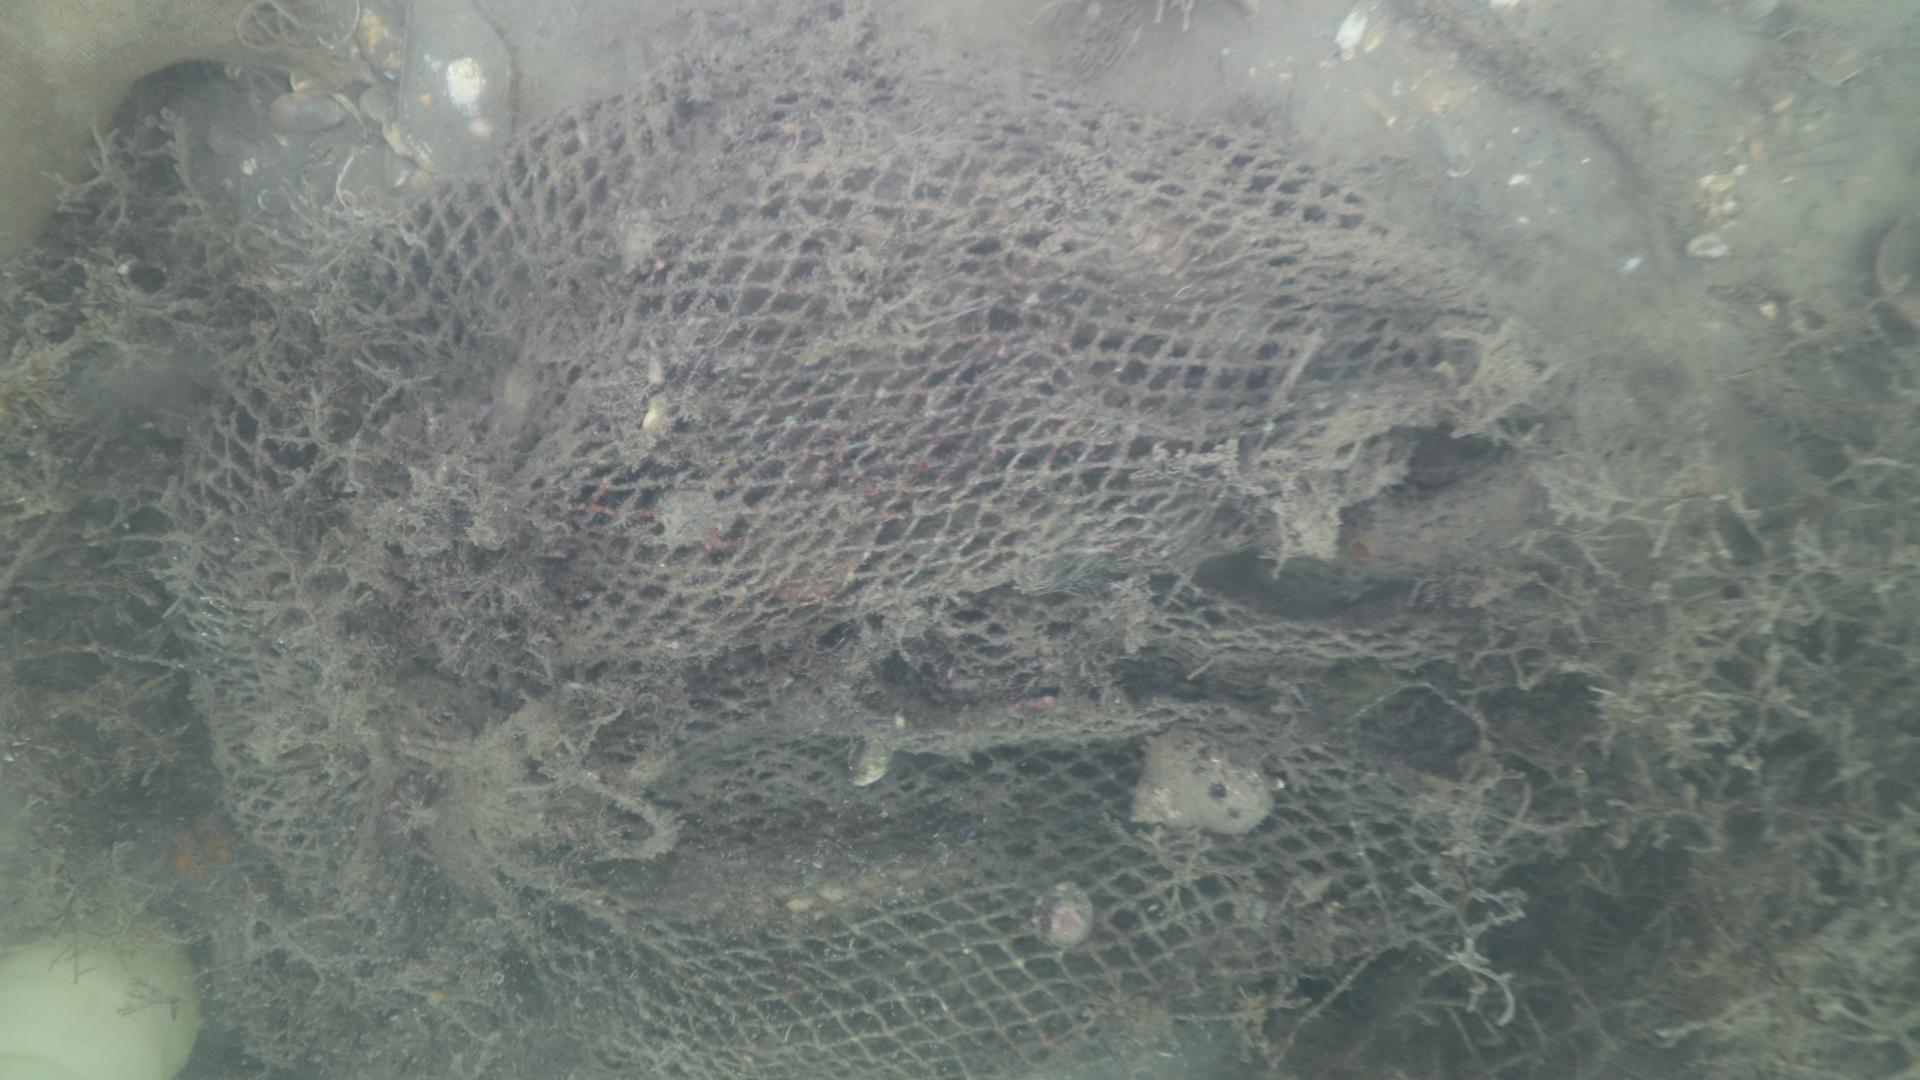fish net: (158, 44, 1472, 1080)
